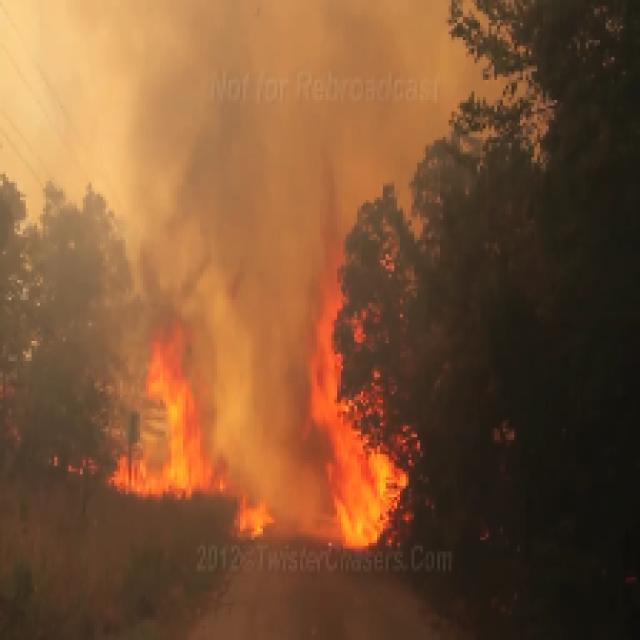Fire: (318, 360, 403, 546), (142, 381, 214, 502)
Smoke: (176, 36, 338, 362)
